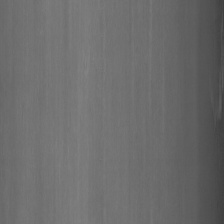silk_spot: (199, 67, 224, 127)
